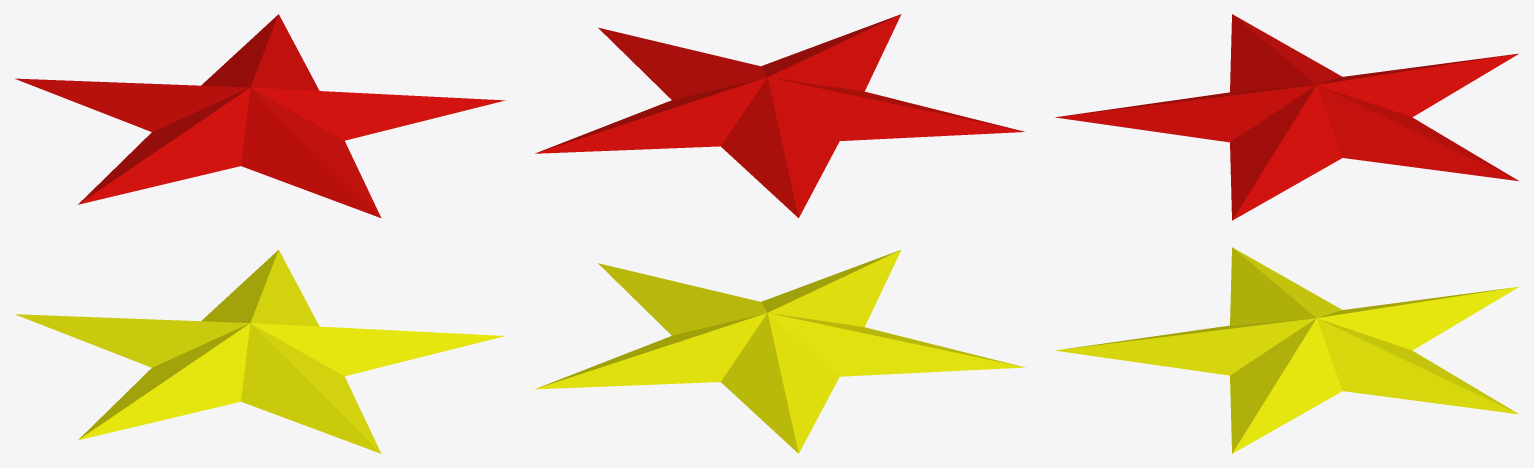
Rendered from star3.fbx.
3 views of the same model, side by side, from view 1: azimuth 30°, elevation 25°; view 2: azimuth 150°, elevation 25°; view 3: azimuth 270°, elevation 25° (orthographic).
Visible parts, largest first — view 1: Star.001, Star; view 2: Star, Star.001; view 3: Star, Star.001.
Boxes of the visible parts, left/top/right/bottom form: Star.001: left=15, top=14, right=505, bottom=217; Star: left=15, top=250, right=504, bottom=453; Star: left=535, top=250, right=1025, bottom=453; Star.001: left=535, top=14, right=1024, bottom=217; Star: left=1055, top=247, right=1518, bottom=453; Star.001: left=1055, top=14, right=1518, bottom=220.
Size of the model in its own units: 190 by 123 by 181.
